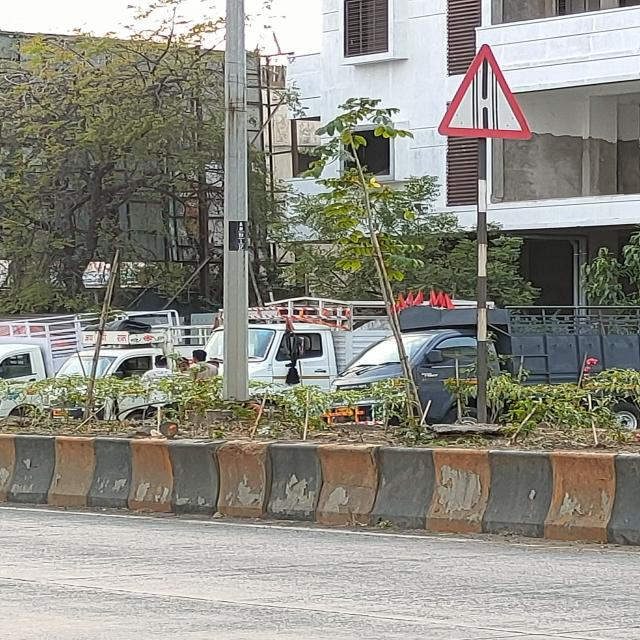GAP_IN_MEDIAN: (438, 43, 537, 138)
